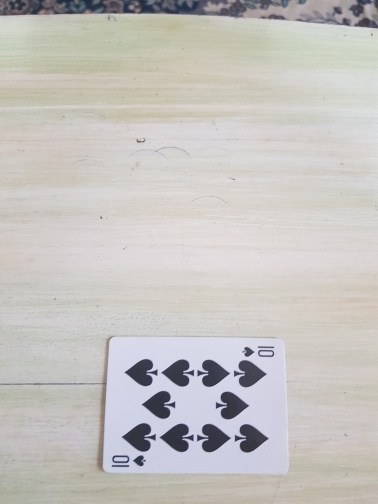ten: (102, 336, 291, 474)
